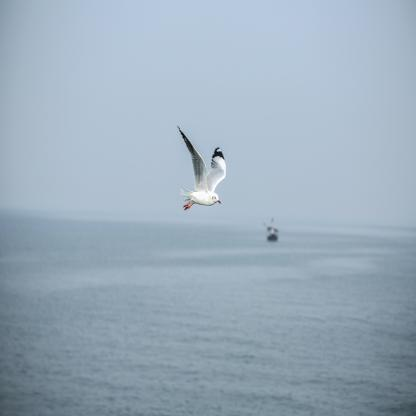bird: (177, 125, 227, 212)
